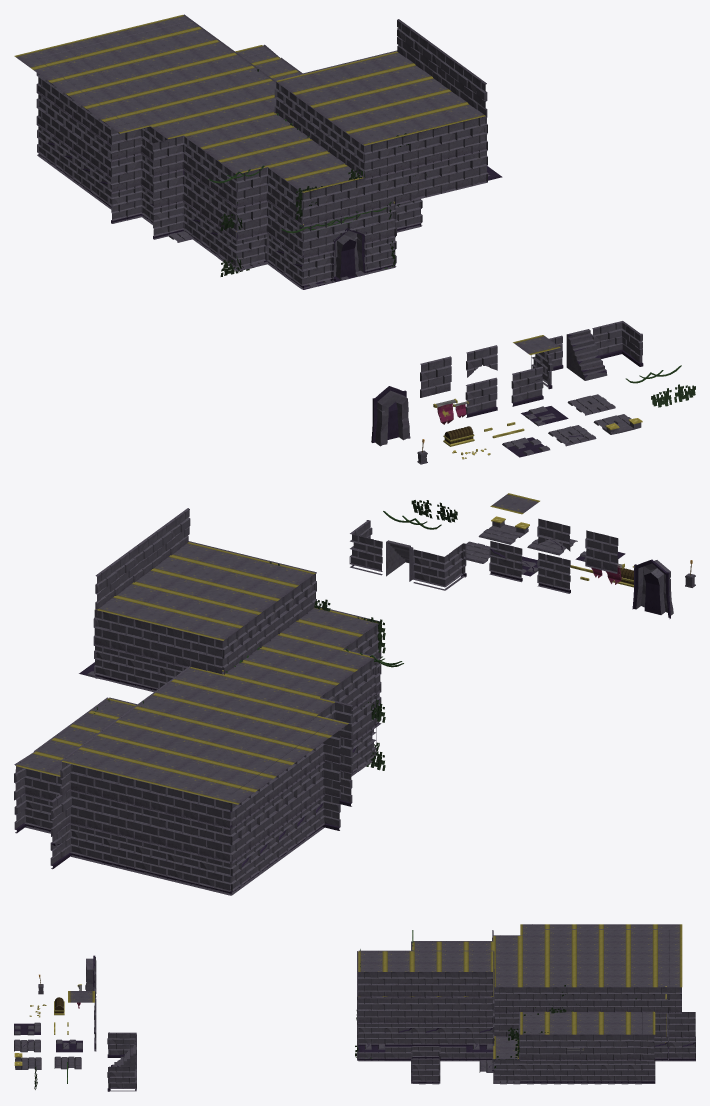
File: Enviroment_kit_dungen.fbx
3 renders of one model, top to bottom at view 1: azimuth 30°, elevation 25°; view 2: azimuth 150°, elevation 25°; view 3: azimuth 270°, elevation 25°, orthographic. The views are drawn at different scales.
Parts seen in each view (by area): view 1: dungen_door1, dungen_wall_right, dungen_steers, dungen_wall_left1, dungen_wall_left2, dungen_door2, dungen_wall_stack37, dungen_wall_stack46, dungen_wall_stack55, dungen_wall_stack45, dungen_wall_stack34, dungen_wall_stack80 (+20 smaller); view 2: dungen_door1, dungen_wall_left, dungen_wall_right, dungen_wall_stack, dungen_wall_stack78, dungen_wall_stack79, dungen_wall_stack77, dungen_wall, dungen_wall_stack91, dungen_wall_stack90, dungen_wall_stack92, dungen_wall_scratch (+86 smaller); view 3: dungen_wall_right, dungen_wall_stack19, dungen_wall_stack20, dungen_wall_stack21, dungen_wall_stack18, dungen_wall_stack22, dungen_wall_stack82, dungen_wall_stack101, dungen_wall_stack102, dungen_wall_stack103, dungen_wall_stack81, dungen_wall_stack7 (+98 smaller).
Part boxes in pixels (x1=…): dungen_door1: x1=371, y1=386, x2=410, y2=446; dungen_wall_right: x1=592, y1=321, x2=643, y2=366; dungen_steers: x1=566, y1=329, x2=607, y2=380; dungen_wall_left1: x1=217, y1=226, x2=269, y2=270; dungen_wall_left2: x1=284, y1=245, x2=335, y2=289; dungen_door2: x1=331, y1=227, x2=367, y2=282; dungen_wall_stack37: x1=302, y1=186, x2=334, y2=227; dungen_wall_stack46: x1=425, y1=124, x2=457, y2=165; dungen_wall_stack55: x1=152, y1=136, x2=184, y2=177; dungen_wall_stack45: x1=394, y1=131, x2=426, y2=172; dungen_wall_stack34: x1=333, y1=178, x2=365, y2=219; dungen_wall_stack80: x1=364, y1=139, x2=395, y2=180; dungen_door1: x1=632, y1=559, x2=673, y2=618; dungen_wall_left: x1=413, y1=543, x2=466, y2=590; dungen_wall_right: x1=349, y1=520, x2=382, y2=575; dungen_wall_stack: x1=585, y1=530, x2=618, y2=573; dungen_wall_stack78: x1=125, y1=618, x2=158, y2=661; dungen_wall_stack79: x1=93, y1=610, x2=126, y2=653; dungen_wall_stack77: x1=157, y1=625, x2=190, y2=668; dungen_wall: x1=537, y1=552, x2=570, y2=593; dungen_wall_stack91: x1=133, y1=806, x2=166, y2=847; dungen_wall_stack90: x1=101, y1=798, x2=134, y2=839; dungen_wall_stack92: x1=165, y1=814, x2=198, y2=855; dungen_wall_scratch: x1=489, y1=541, x2=522, y2=582; dungen_wall_right: x1=107, y1=1055, x2=136, y2=1091; dungen_wall_stack19: x1=546, y1=1034, x2=573, y2=1060; dungen_wall_stack20: x1=573, y1=1034, x2=600, y2=1060; dungen_wall_stack21: x1=600, y1=1034, x2=627, y2=1060; dungen_wall_stack18: x1=519, y1=1034, x2=546, y2=1060; dungen_wall_stack22: x1=627, y1=1034, x2=654, y2=1061; dungen_wall_stack82: x1=668, y1=1012, x2=695, y2=1038; dungen_wall_stack101: x1=439, y1=972, x2=465, y2=998; dungen_wall_stack102: x1=466, y1=972, x2=492, y2=998; dungen_wall_stack103: x1=358, y1=972, x2=384, y2=998; dungen_wall_stack81: x1=655, y1=987, x2=681, y2=1013; dungen_wall_stack7: x1=494, y1=987, x2=519, y2=1013.
Size of the model in its own units: 9.9 by 5.21 by 25.24.
